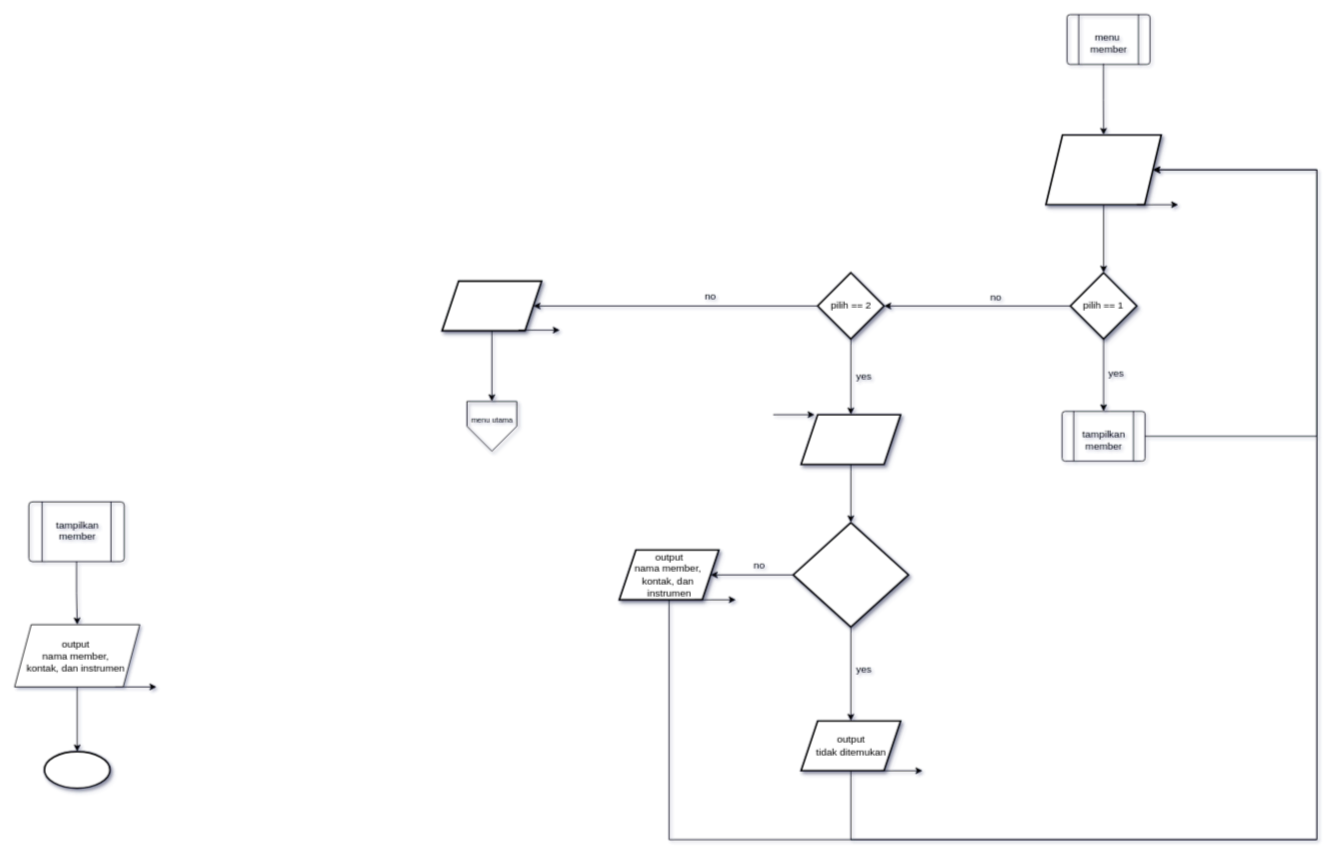
This 1343x866 diagram has some shape labels left out. Each missing label, with the centre of its shape:
end: pixel 77 770
input username atau instrumen: pixel 851 440
nama != daftar member or instrumen != daftarmember: pixel 851 575
output logout berhasil: pixel 492 306
output menu member 1. lihat daftar member, 2. cari member, 3. logout: pixel 1104 170
